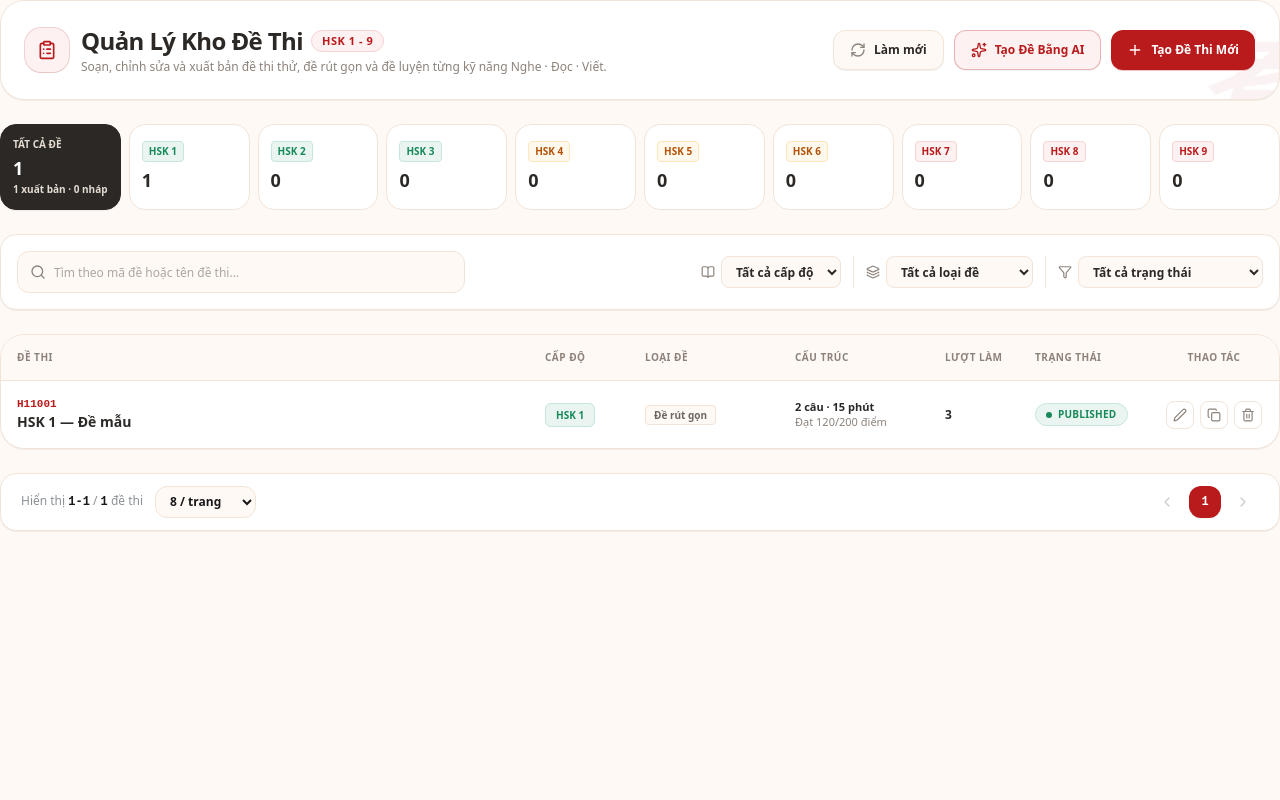
it: AdminExamManager › opens the full exam in the editor and saves the edited document
Step 1. Click the button named "Chỉnh sửa đề H11001" → coordinates (1180, 415), box [1166,401,1194,429]
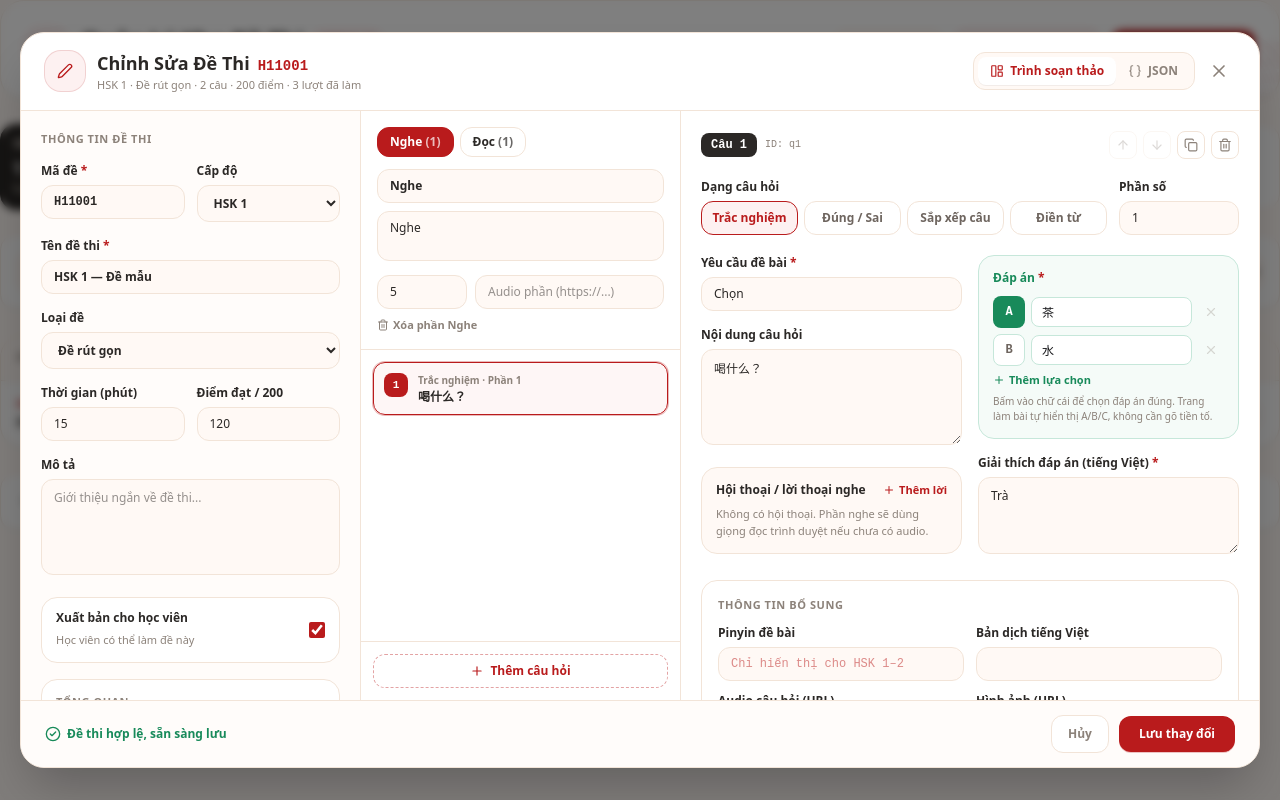
Step 2. Replace the text in the field with placeholder "HSK 3 — Đề luyện số 2" below "Tên đề thi" with "Tên mới" → coordinates (190, 277), box [41,260,340,294]
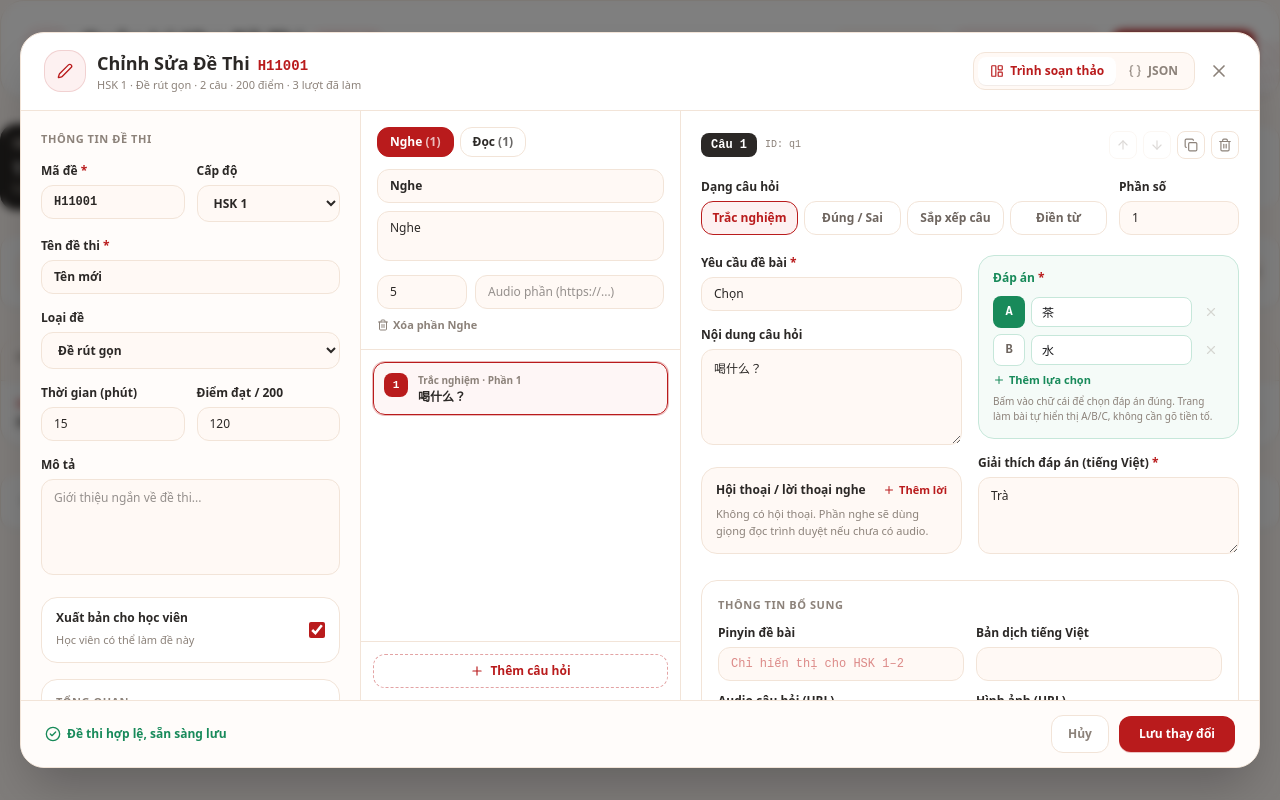
Step 3. Click the button named "Chọn B là đáp án đúng" → coordinates (1009, 350), box [993,334,1025,366]
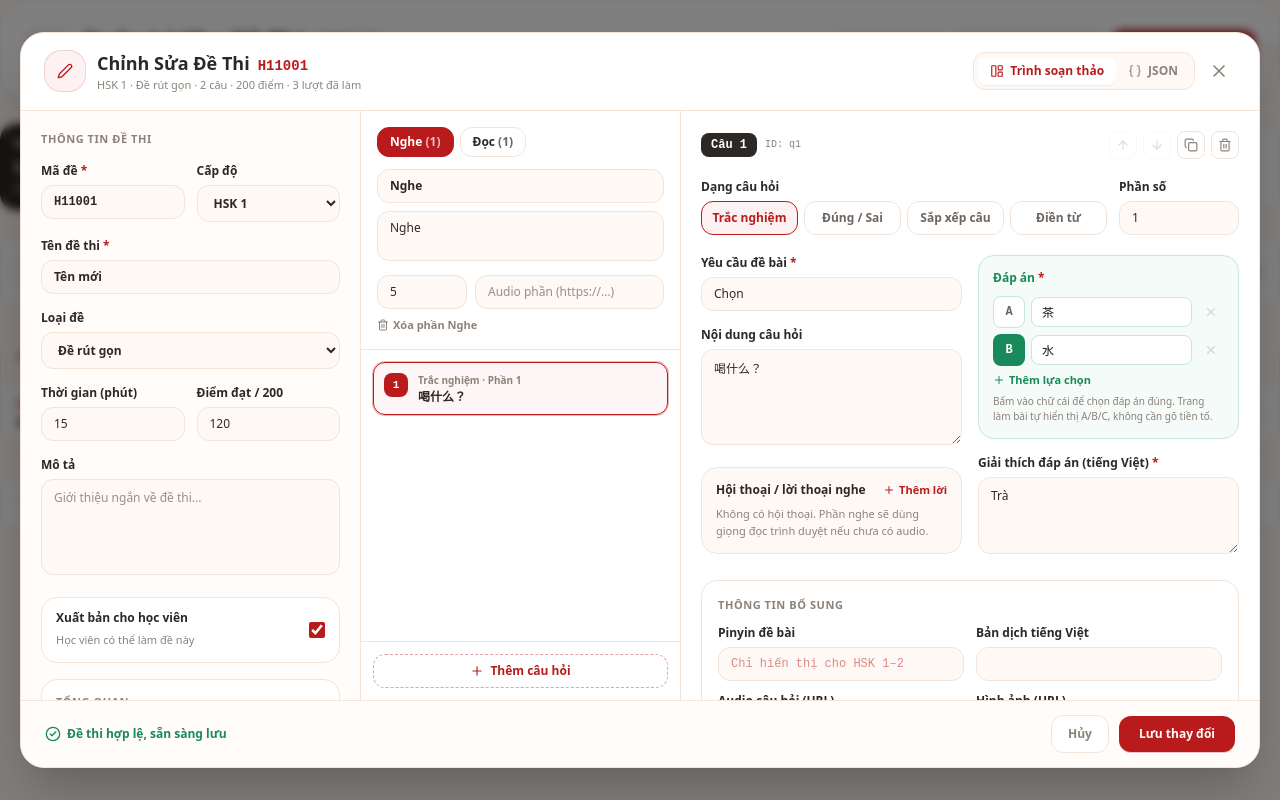
Step 4. Click the button "Lưu thay đổi" → coordinates (1177, 734), box [1119,716,1235,752]
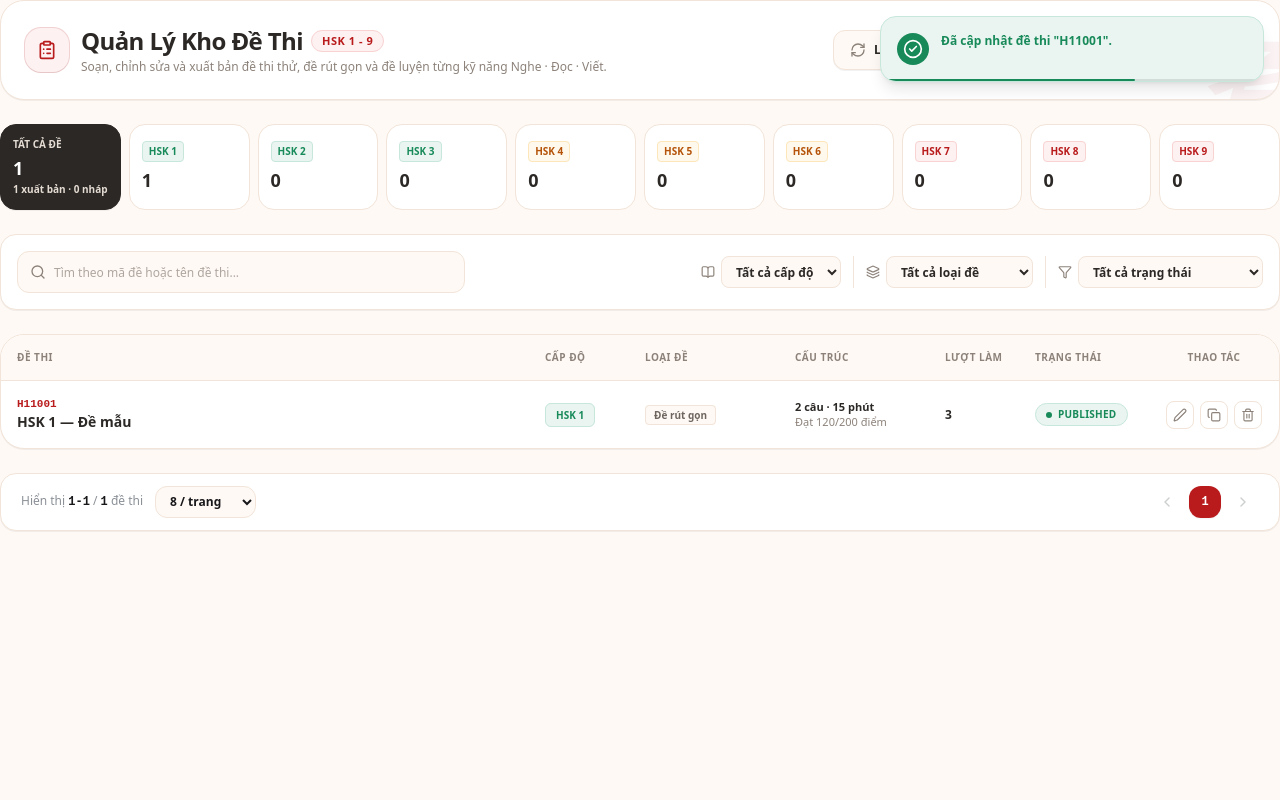
expect the dialog is gone: met
